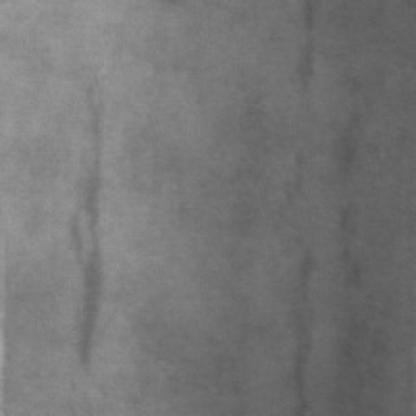inclusion: (60, 81, 119, 389), (279, 243, 320, 395), (285, 0, 325, 106)
